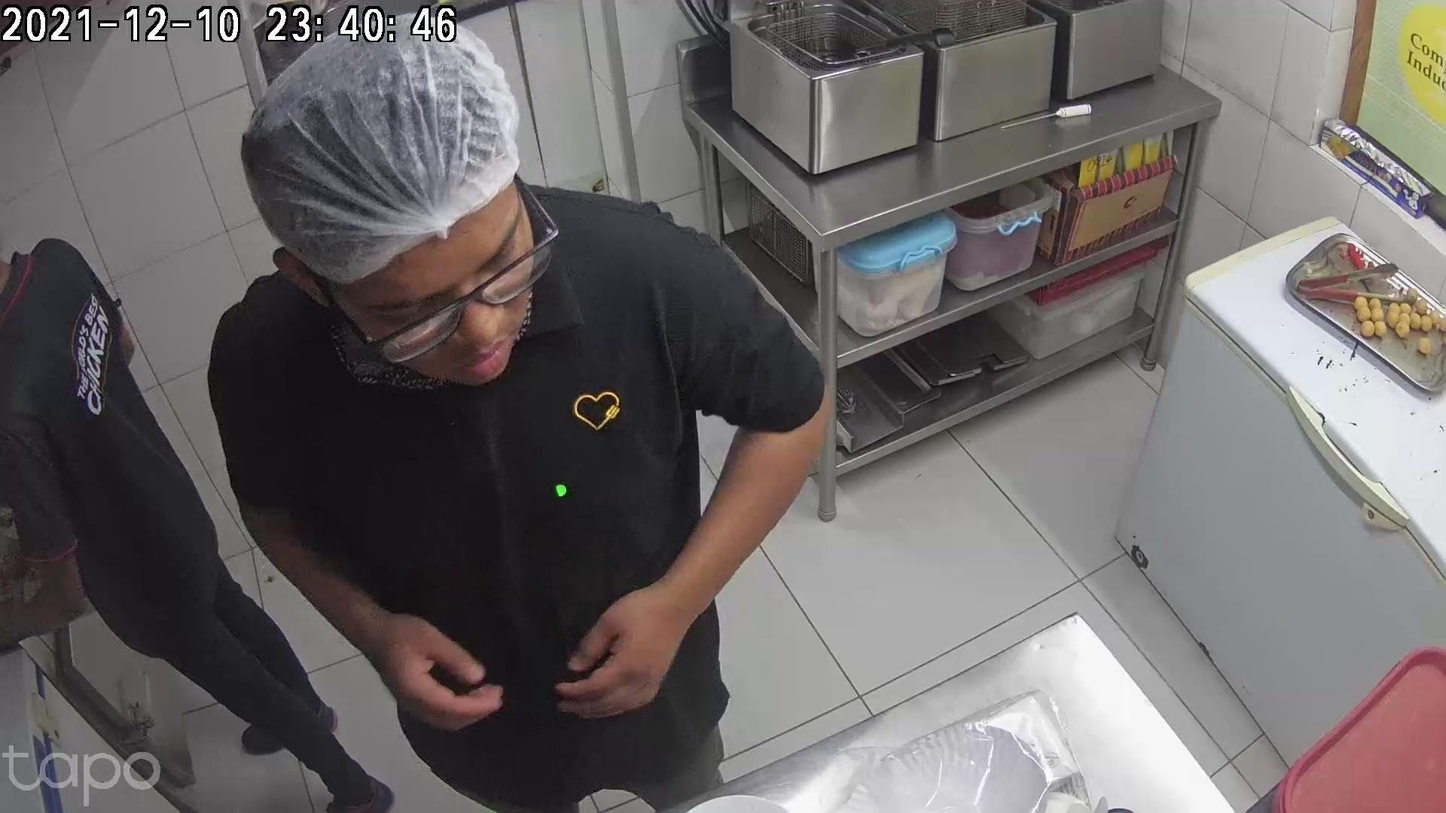no_gloves: (559, 572, 706, 716), (359, 603, 502, 725)
